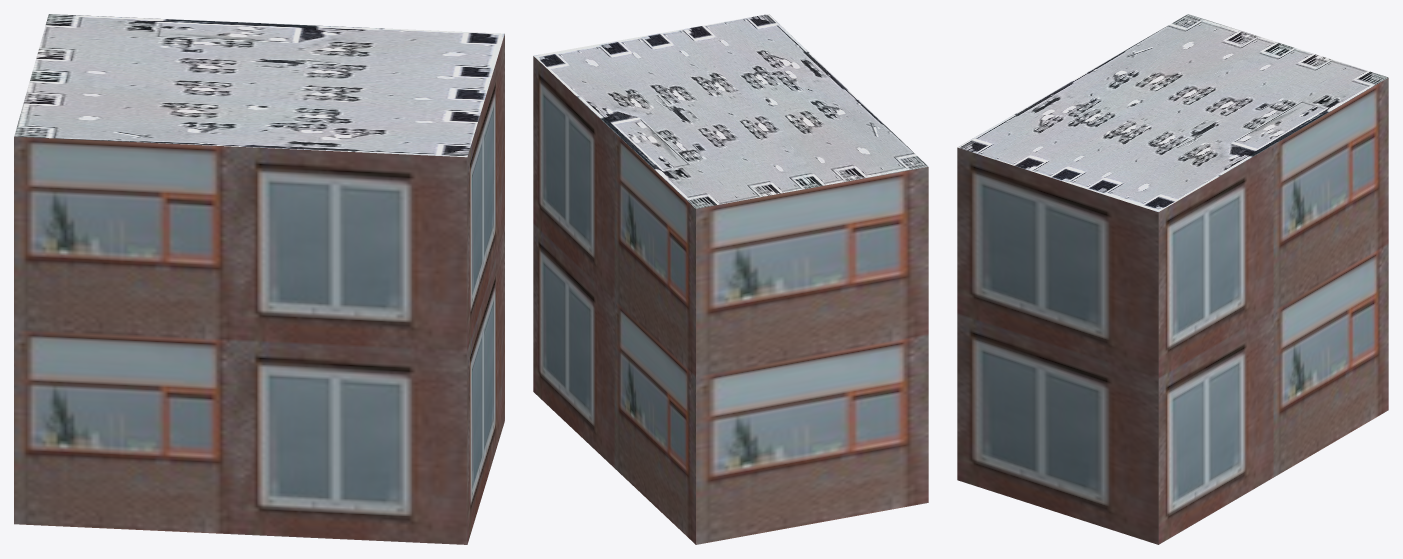
The model's file is ResTex__3759.fbx.
The picture shows the model from 3 angles, left to right: view 1: azimuth 30°, elevation 25°; view 2: azimuth 150°, elevation 25°; view 3: azimuth 270°, elevation 25°; orthographic projection. The views are drawn at different scales.
Parts seen in each view (by area): view 1: CityEngineMaterial_19_m, CityEngineMaterial_15_m; view 2: CityEngineMaterial_19_m, CityEngineMaterial_15_m; view 3: CityEngineMaterial_19_m, CityEngineMaterial_15_m.
Part boxes in pixels (x1,y1,x2,y2): CityEngineMaterial_19_m: (14,34,504,544); CityEngineMaterial_15_m: (14,14,504,157); CityEngineMaterial_19_m: (533,56,928,544); CityEngineMaterial_15_m: (533,14,928,208); CityEngineMaterial_19_m: (957,78,1388,544); CityEngineMaterial_15_m: (957,14,1388,211).
Size of the model in its own units: 7.67 by 6 by 7.05.
Materials: 2 (2 with a texture image).
